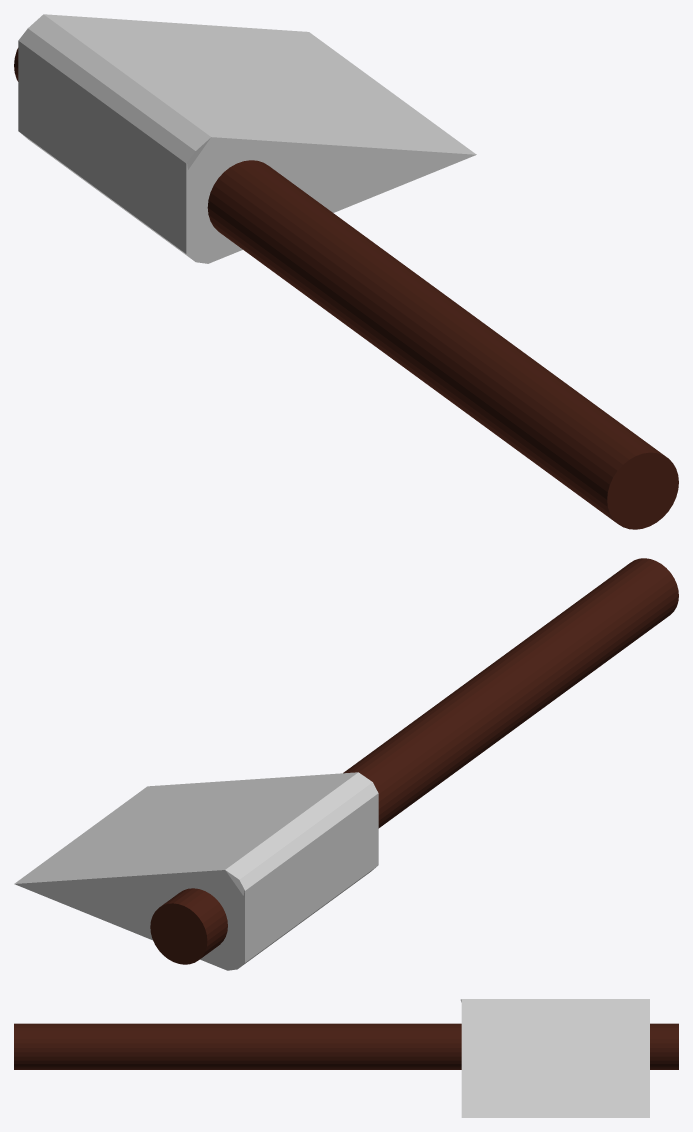
The model's file is Axe.fbx.
The picture shows the model from 3 angles, top to bottom: view 1: azimuth 30°, elevation 25°; view 2: azimuth 150°, elevation 25°; view 3: azimuth 270°, elevation 25°; orthographic projection. The views are drawn at different scales.
Visible parts, largest first — view 1: Axe; view 2: Axe; view 3: Axe.
Boxes of the visible parts, <box> form: Axe: <box>14,14,678,529</box>; Axe: <box>14,558,678,970</box>; Axe: <box>14,999,678,1117</box>.
Bounding box in the file's own units: 17.68 × 7.33 × 62.47.
